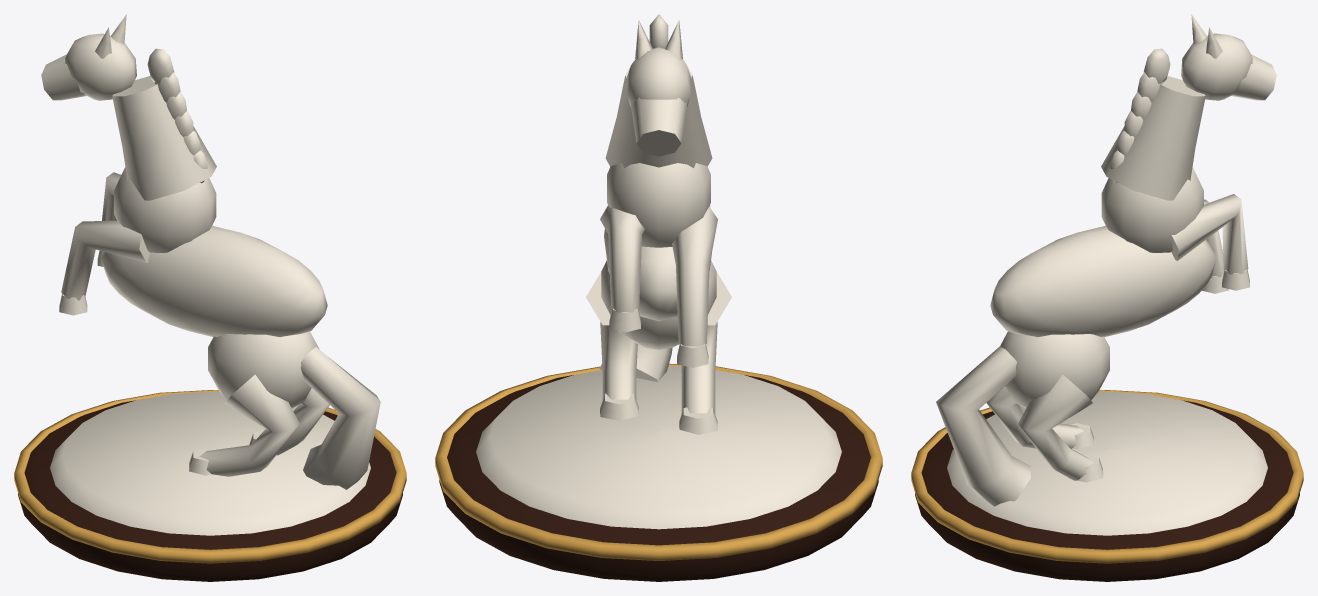
Rendered from horse.glb.
The picture shows the model from 3 angles, left to right: view 1: azimuth 30°, elevation 25°; view 2: azimuth 150°, elevation 25°; view 3: azimuth 270°, elevation 25°; orthographic projection. The views are drawn at different scales.
Visible parts, largest first — view 1: Horse; view 2: Horse; view 3: Horse.
Boxes of the visible parts, x1,y1,x2,y2 form: Horse: (14,14,406,581); Horse: (435,14,882,581); Horse: (911,14,1303,581).
Size of the model in its own units: 0.1589 by 0.2058 by 0.1589.
